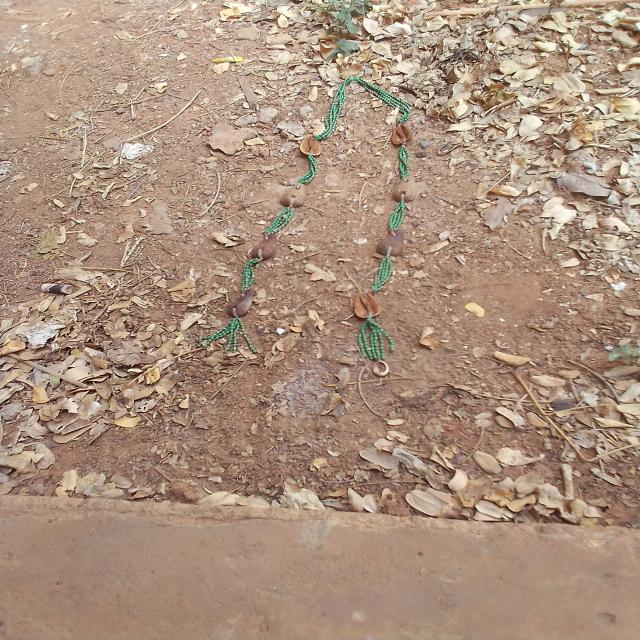facedown: (374, 224, 407, 256), (248, 230, 281, 261), (227, 287, 260, 316), (279, 177, 309, 208), (392, 172, 418, 204)
faceup: (348, 286, 386, 322), (297, 135, 326, 159), (387, 122, 415, 146)
